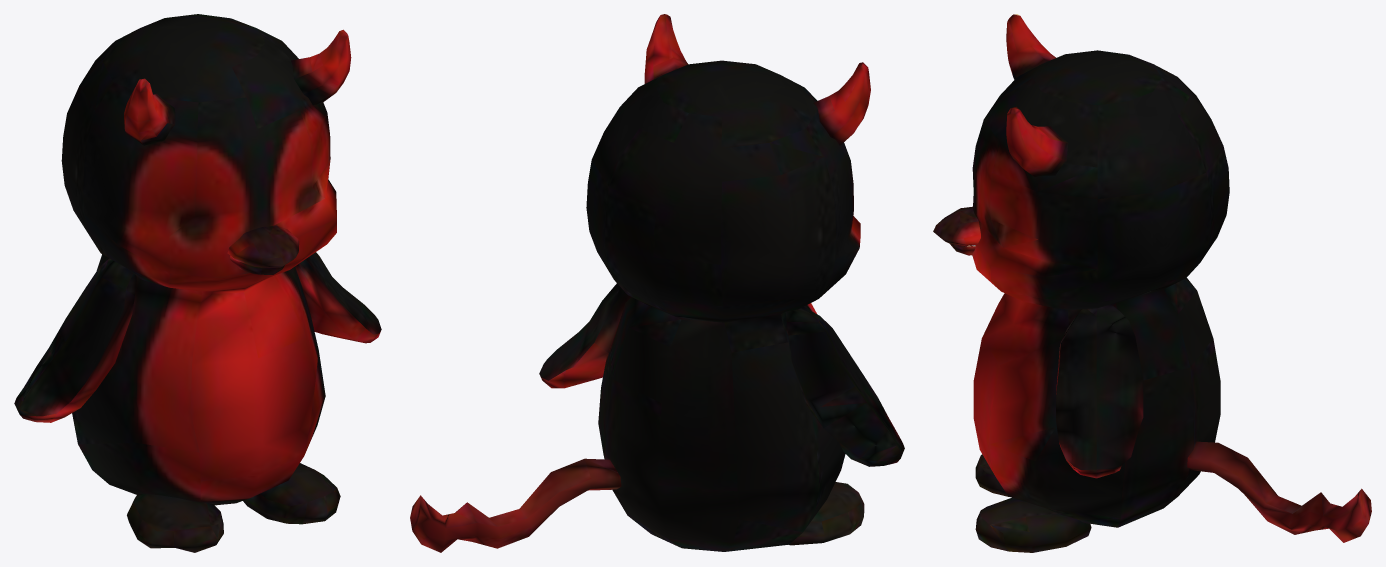
The model's file is penguin-05-23-devil-horn-vinyl-penguin.gltf.
3 renders of one model, left to right at view 1: azimuth 30°, elevation 25°; view 2: azimuth 150°, elevation 25°; view 3: azimuth 270°, elevation 25°, orthographic. The views are drawn at different scales.
Parts seen in each view (by area): view 1: penguin-05-23-devil-horn-vinyl-penguin; view 2: penguin-05-23-devil-horn-vinyl-penguin; view 3: penguin-05-23-devil-horn-vinyl-penguin.
Boxes of the visible parts, <box> form: penguin-05-23-devil-horn-vinyl-penguin: <box>14,14,381,552</box>; penguin-05-23-devil-horn-vinyl-penguin: <box>410,14,904,552</box>; penguin-05-23-devil-horn-vinyl-penguin: <box>933,14,1371,552</box>.
Size of the model in its own units: 0.2 by 0.2505 by 0.2204.
1 material, 1 textured.
